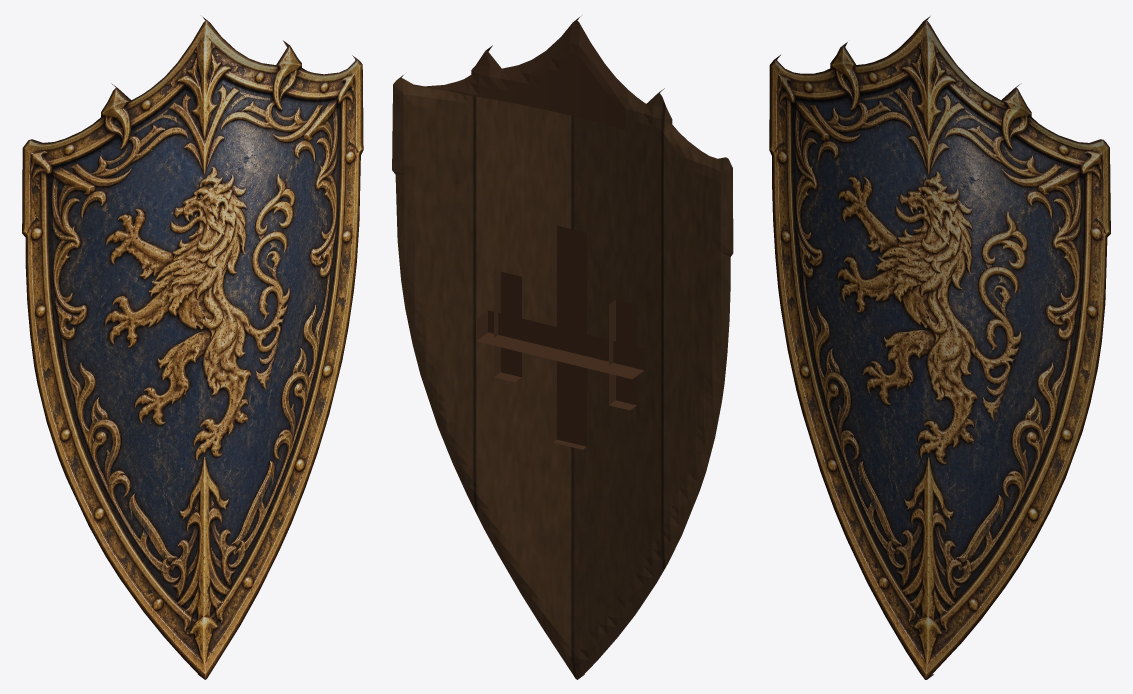
File: shield-legendary.glb
3 renders of one model, left to right at view 1: azimuth 30°, elevation 25°; view 2: azimuth 150°, elevation 25°; view 3: azimuth 330°, elevation 25°, orthographic.
Parts seen in each view (by area): view 1: shield-legendary; view 2: shield-legendary; view 3: shield-legendary.
Boxes of the visible parts, x1,y1,x2,y2 form: shield-legendary: (22, 16, 363, 679); shield-legendary: (392, 16, 733, 679); shield-legendary: (769, 16, 1110, 679).
Bounding box in the file's own units: 0.5679 × 1.05 × 0.0853.
1 material, 1 textured.
